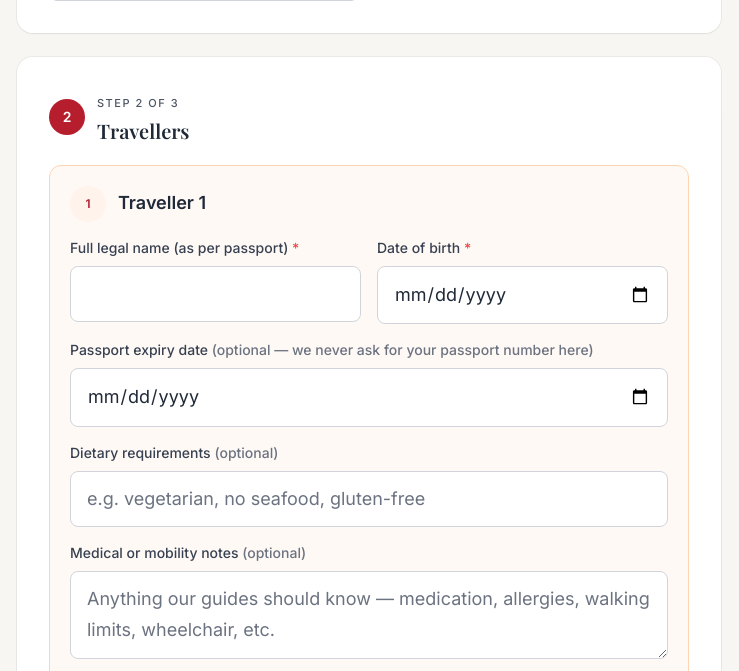
Scenario: travellers flow › expands a collapsed card when its header is clicked
(page scrolled)
Type "Alice" into the field with id "fullName-0" at (216, 294), box top-left (70, 266), bottom-right (361, 322)
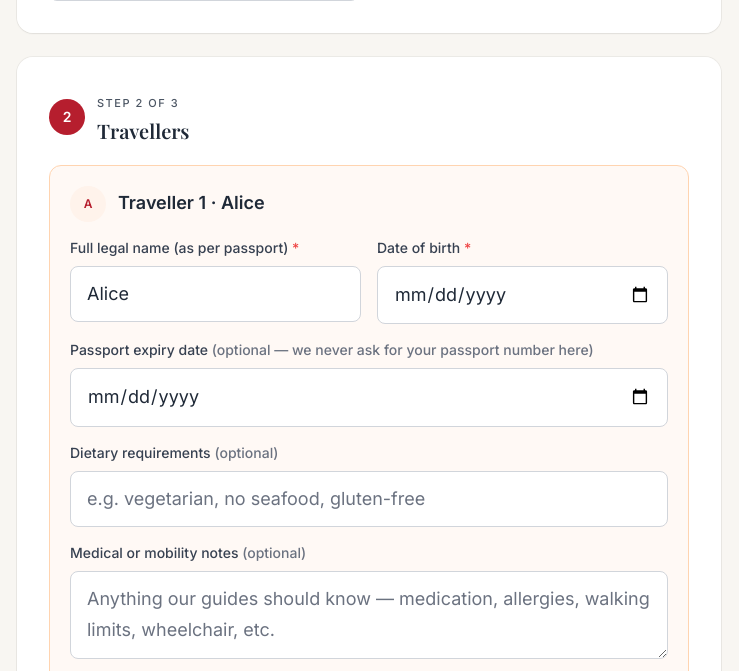
Type "1960-01-01" into the date field labelled "Date of birth *" at (522, 295), box top-left (377, 266), bottom-right (668, 324)
(page scrolled)
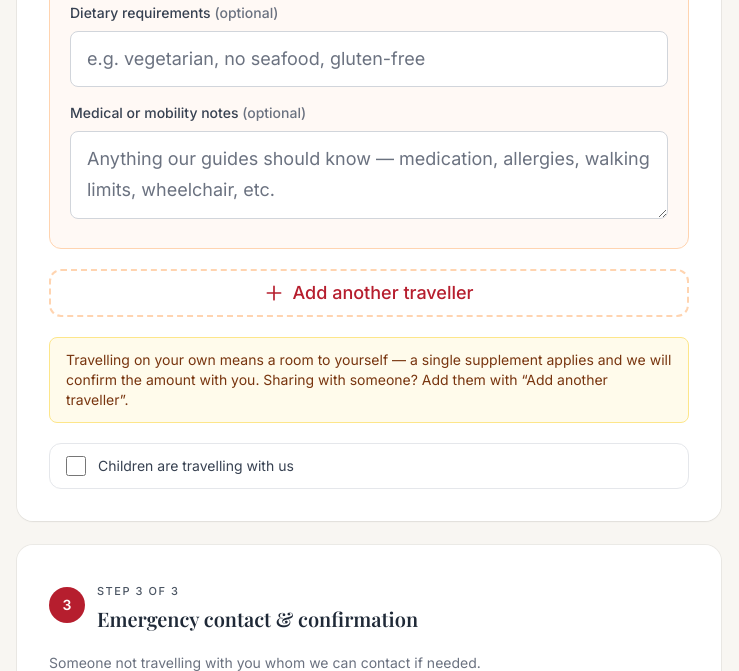
Click the button "Add another traveller" at (369, 293), box top-left (49, 269), bottom-right (689, 317)
(page scrolled)
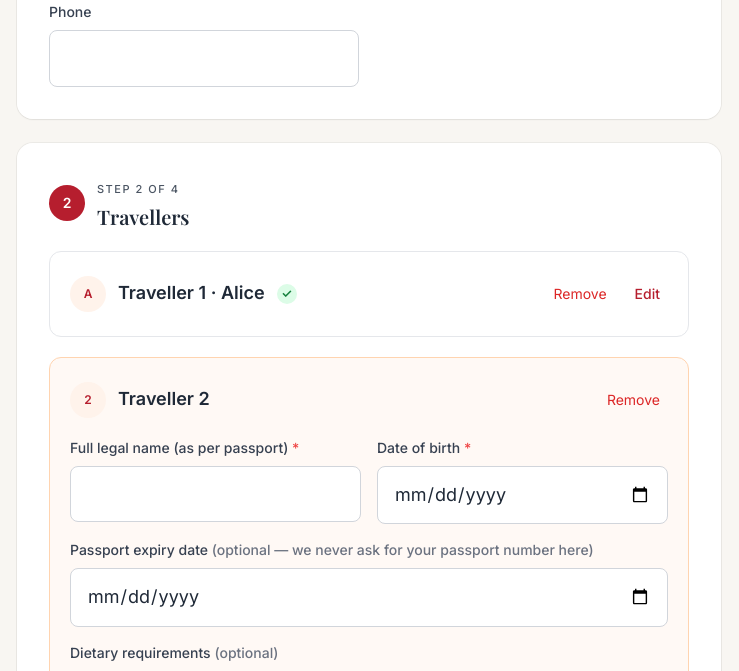
Click the text "Traveller 1 · Alice" at (191, 294), box top-left (118, 278), bottom-right (265, 309)
(page scrolled)
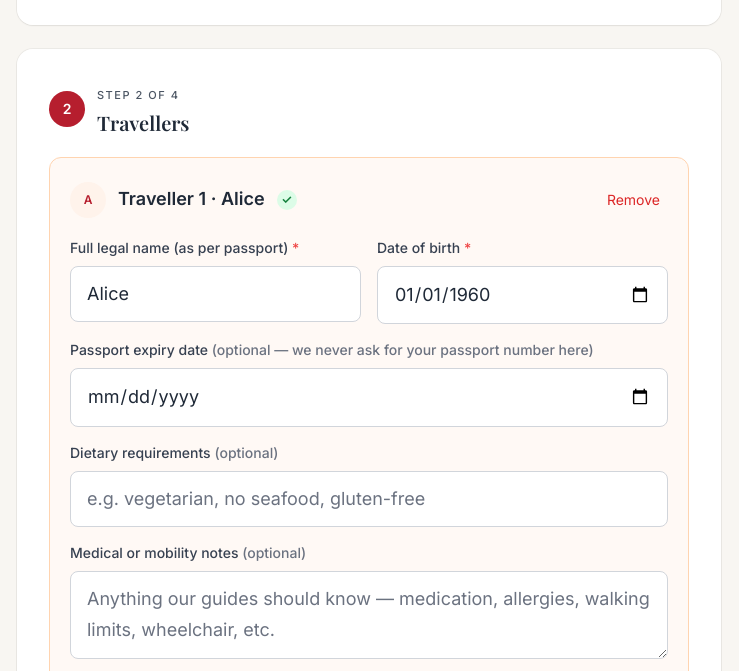
Expected: the field with id "fullName-0" is shown, top-left (70, 266), bottom-right (361, 322)
